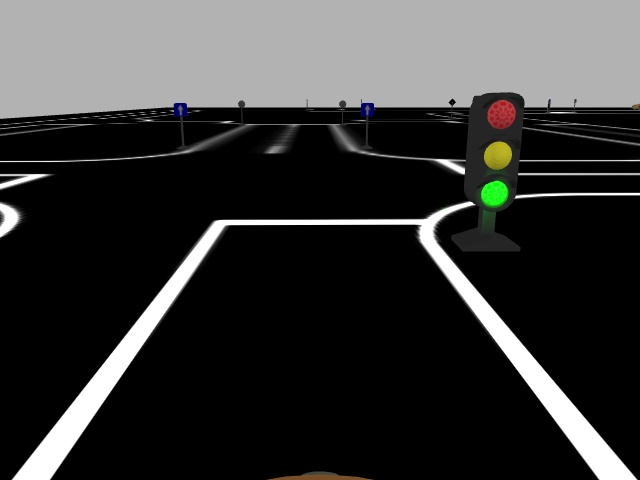green_light: (460, 89, 528, 214)
oneway: (172, 101, 189, 119), (359, 102, 376, 118)
